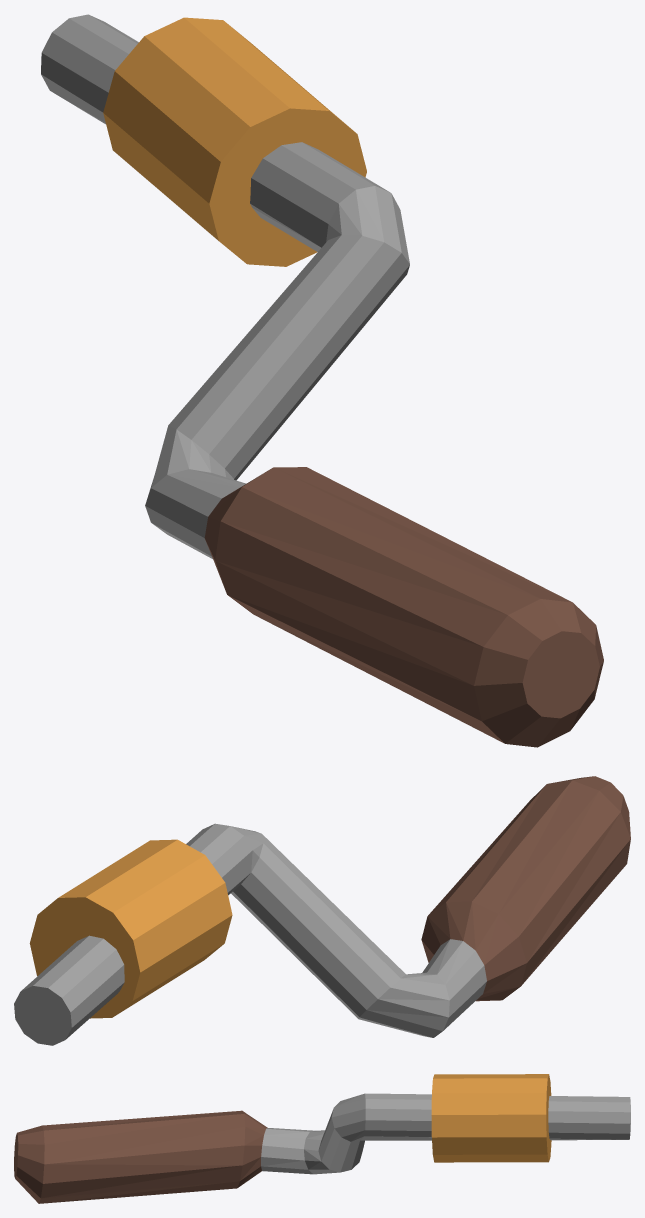
Rendered from gramarm.fbx.
3 renders of one model, top to bottom at view 1: azimuth 30°, elevation 25°; view 2: azimuth 150°, elevation 25°; view 3: azimuth 270°, elevation 25°, orthographic. The views are drawn at different scales.
Parts seen in each view (by area): view 1: group225046476.001; view 2: group225046476.001; view 3: group225046476.001.
Boxes of the visible parts, x1,y1,x2,y2 form: group225046476.001: (41, 14, 603, 747); group225046476.001: (14, 776, 630, 1045); group225046476.001: (14, 1074, 630, 1203).
Size of the model in its own units: 11.61 by 9.92 by 34.89.
